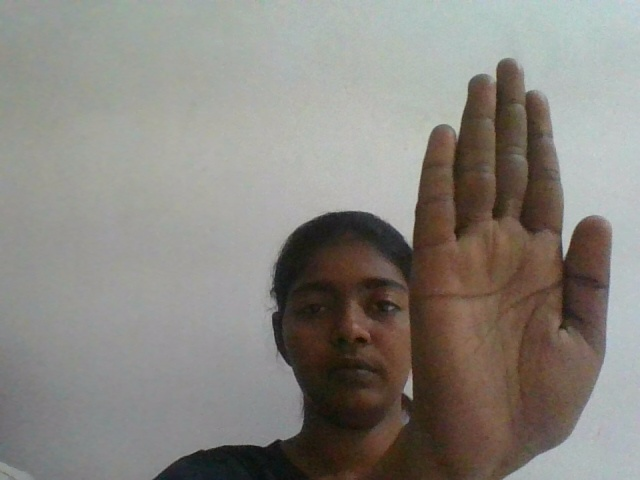Hello: (409, 50, 618, 452)
